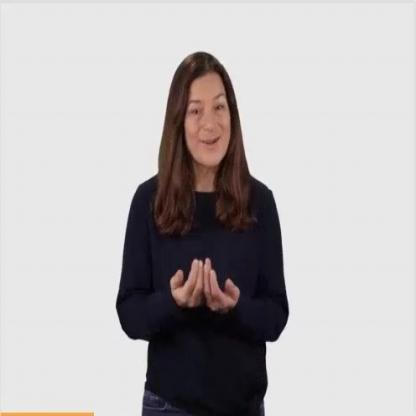HowAreYou: (158, 234, 244, 330)
